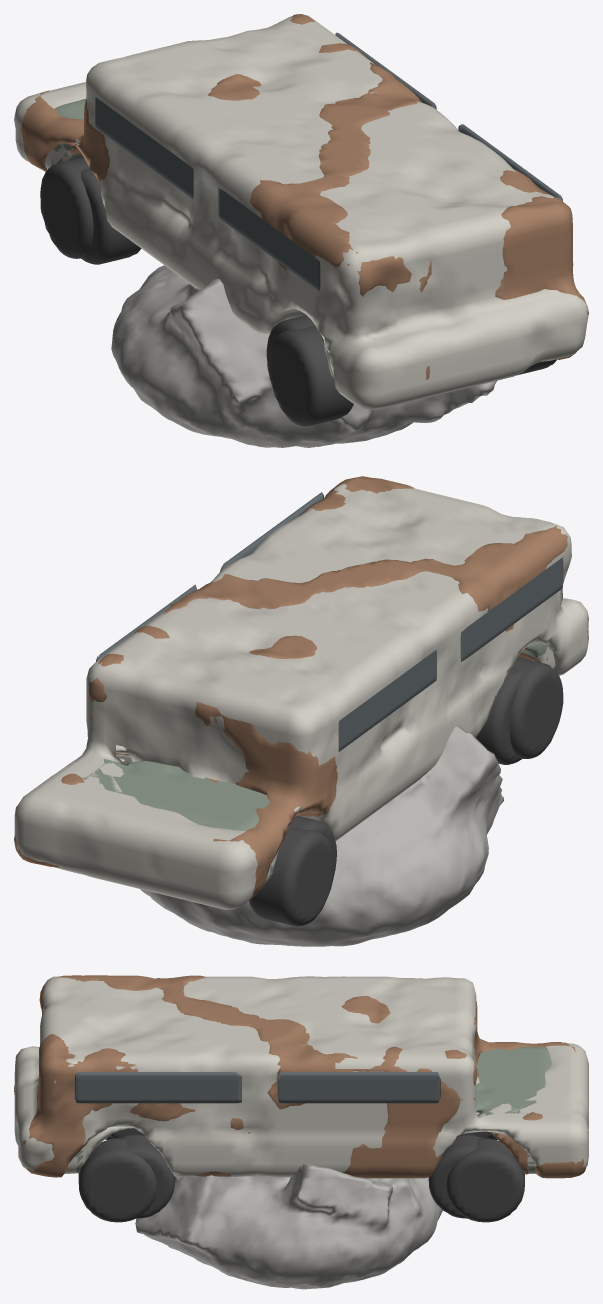
File: Props.glb
3 renders of one model, top to bottom at view 1: azimuth 30°, elevation 25°; view 2: azimuth 150°, elevation 25°; view 3: azimuth 270°, elevation 25°, orthographic. The views are drawn at different scales.
Parts seen in each view (by area): view 1: CarVan_1_Body, Rubble_1_Rubble, CarVan_1_Rust, CarVan_1_Tires, CarVan_1_Glass, CarSedan_1_Tires, CarSedan_1_Body; view 2: CarVan_1_Body, Rubble_1_Rubble, CarVan_1_Rust, CarVan_1_Tires, CarVan_1_Glass, CarSedan_1_Body, CarSedan_1_Tires; view 3: CarVan_1_Body, Rubble_1_Rubble, CarVan_1_Rust, CarVan_1_Glass, CarVan_1_Tires, CarSedan_1_Body, CarSedan_1_Tires, CarSedan_2_Body, CarSedan_2_Rust.
Boxes of the visible parts, x1=… form: CarVan_1_Body: x1=14, y1=15, x2=588, y2=410; Rubble_1_Rubble: x1=111, y1=265, x2=496, y2=447; CarVan_1_Rust: x1=21, y1=14, x2=588, y2=379; CarVan_1_Tires: x1=40, y1=157, x2=556, y2=426; CarVan_1_Glass: x1=95, y1=32, x2=562, y2=291; CarSedan_1_Tires: x1=80, y1=168, x2=315, y2=375; CarSedan_1_Body: x1=51, y1=99, x2=325, y2=348; CarVan_1_Body: x1=14, y1=484, x2=588, y2=909; Rubble_1_Rubble: x1=140, y1=726, x2=503, y2=946; CarVan_1_Rust: x1=14, y1=476, x2=567, y2=900; CarVan_1_Tires: x1=66, y1=657, x2=563, y2=926; CarVan_1_Glass: x1=96, y1=492, x2=563, y2=751; CarSedan_1_Body: x1=82, y1=640, x2=555, y2=882; CarSedan_1_Tires: x1=290, y1=668, x2=522, y2=875; CarVan_1_Body: x1=14, y1=976, x2=588, y2=1177; Rubble_1_Rubble: x1=135, y1=1163, x2=442, y2=1289; CarVan_1_Rust: x1=14, y1=975, x2=585, y2=1178; CarVan_1_Glass: x1=74, y1=1072, x2=440, y2=1103; CarVan_1_Tires: x1=78, y1=1136, x2=524, y2=1222; CarSedan_1_Body: x1=74, y1=1047, x2=551, y2=1173; CarSedan_1_Tires: x1=110, y1=1128, x2=493, y2=1218; CarSedan_2_Body: x1=64, y1=1126, x2=536, y2=1173; CarSedan_2_Rust: x1=477, y1=1073, x2=542, y2=1174.
Bounding box in the file's own units: 5.64 × 5.01 × 10.51.
